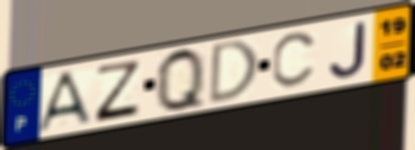A: (34, 68, 95, 135)
C: (269, 29, 321, 91)
D: (206, 38, 261, 108)
J: (326, 19, 369, 81)
Q: (154, 45, 209, 114)
Z: (92, 59, 143, 125)
